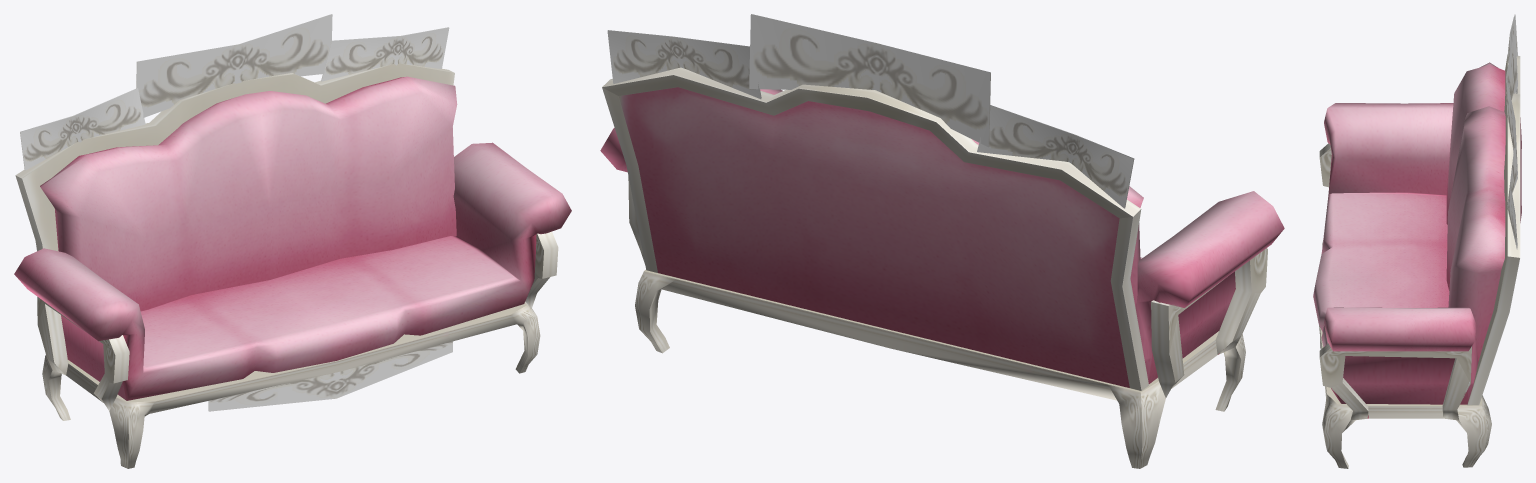
Rendered from RococoSofa_HD.fbx.
3 views of the same model, side by side, from view 1: azimuth 30°, elevation 25°; view 2: azimuth 150°, elevation 25°; view 3: azimuth 270°, elevation 25° (orthographic). The views are drawn at different scales.
Parts seen in each view (by area): view 1: RococoSofa; view 2: RococoSofa; view 3: RococoSofa.
Boxes of the visible parts, x1,y1,x2,y2 form: RococoSofa: [14, 14, 571, 468]; RococoSofa: [600, 14, 1284, 468]; RococoSofa: [1313, 14, 1521, 468].
Size of the model in its own units: 1.97 by 1.23 by 0.7715.
